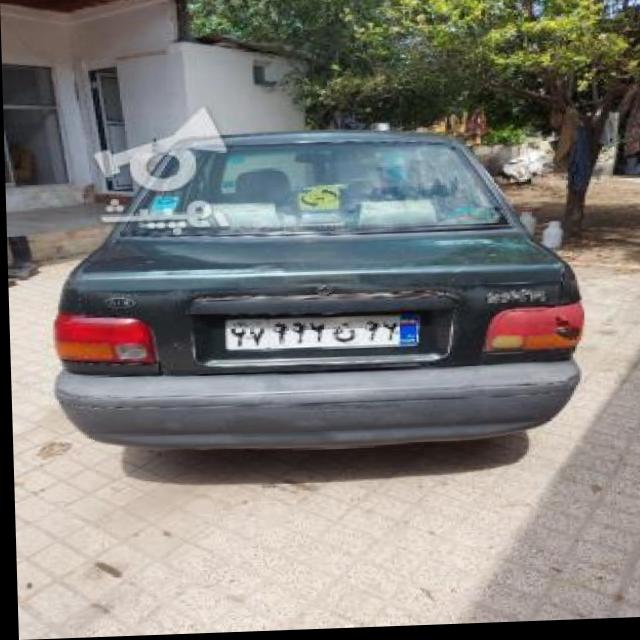licence: (221, 314, 419, 353)
